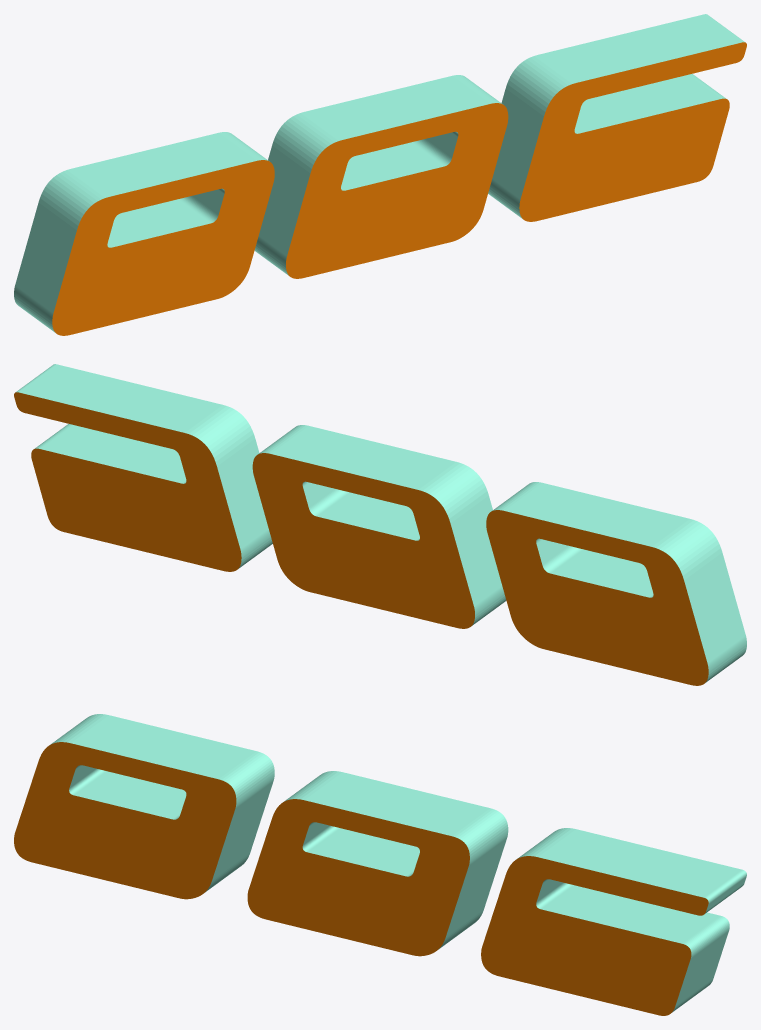
File: ooc3d4.gltf
The picture shows the model from 3 angles, top to bottom: view 1: azimuth 30°, elevation 25°; view 2: azimuth 150°, elevation 25°; view 3: azimuth 330°, elevation 25°; orthographic projection.
Parts seen in each view (by area): view 1: Text; view 2: Text; view 3: Text.
Part boxes in pixels (x1=…): Text: x1=14, y1=14, x2=746, y2=335; Text: x1=14, y1=364, x2=746, y2=685; Text: x1=14, y1=714, x2=746, y2=1015.
Bounding box in the file's own units: 24.19 × 4.28 × 2.31.
